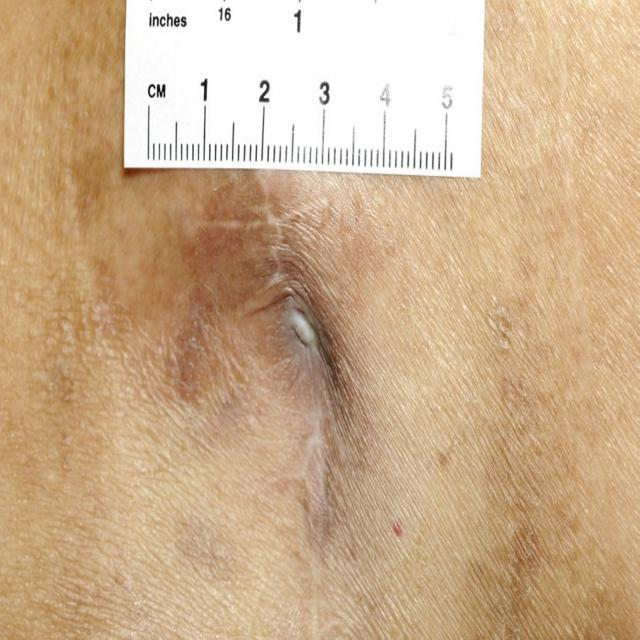wound: (184, 215, 402, 557)
